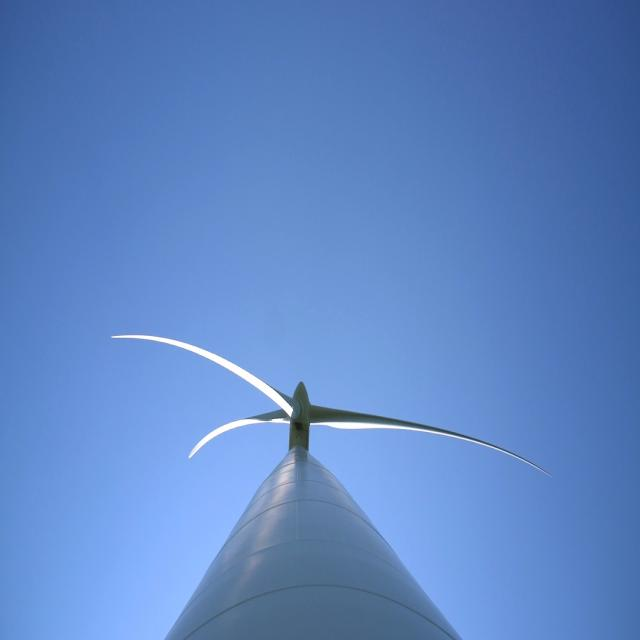blade 1: (138, 399, 284, 467)
blade 2: (113, 313, 264, 393)
blade 3: (330, 394, 514, 469)
